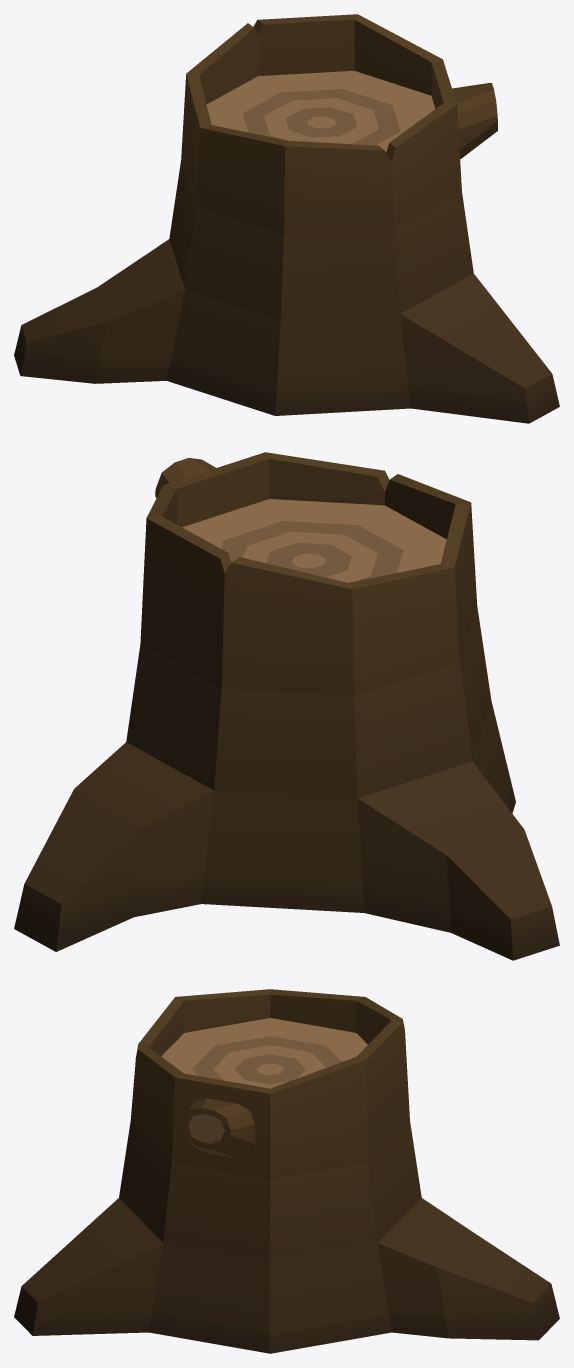
Rendered from Summer_Stump_02.glb.
3 views of the same model, one above another, from view 1: azimuth 30°, elevation 25°; view 2: azimuth 150°, elevation 25°; view 3: azimuth 270°, elevation 25° (orthographic). The views are drawn at different scales.
Visible parts, largest first — view 1: Summer_Stump_02_LOD0; view 2: Summer_Stump_02_LOD0; view 3: Summer_Stump_02_LOD0.
Part boxes in pixels (bbox=[...]): Summer_Stump_02_LOD0: bbox=[14, 14, 559, 423]; Summer_Stump_02_LOD0: bbox=[14, 452, 559, 960]; Summer_Stump_02_LOD0: bbox=[14, 989, 559, 1353].
Size of what is drawn, in the model's own units: 0.5256 by 0.3447 by 0.6308.
Materials: 1 (1 with a texture image).
